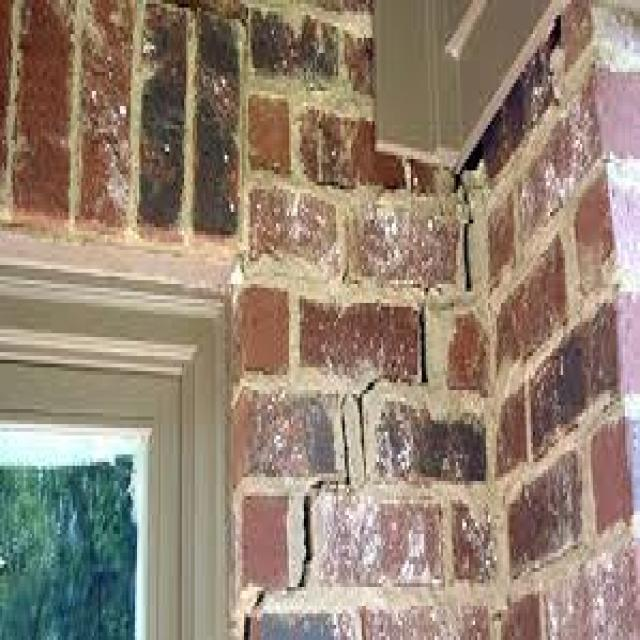Crack: (242, 178, 473, 636)
